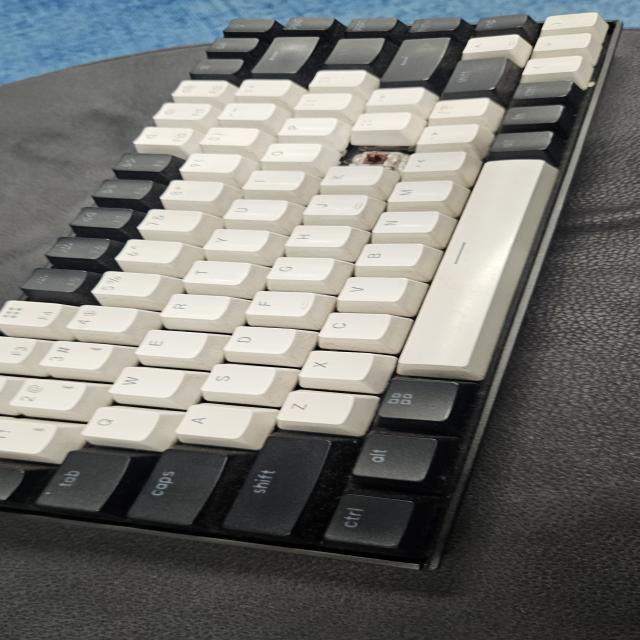C: (347, 148, 403, 171)
